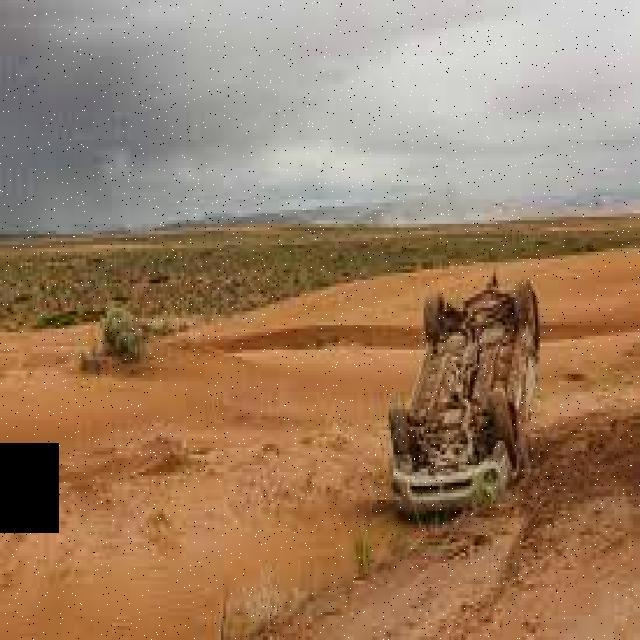severe: (386, 269, 544, 521)
